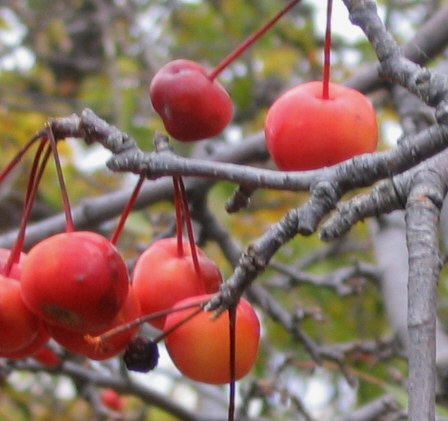apple: (15, 225, 133, 338), (259, 75, 379, 181), (164, 293, 266, 386)
